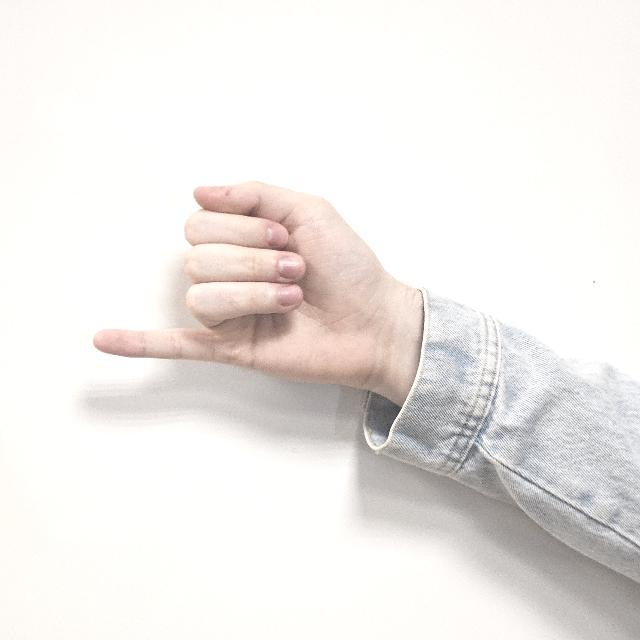Esquerda: (86, 160, 384, 428)
